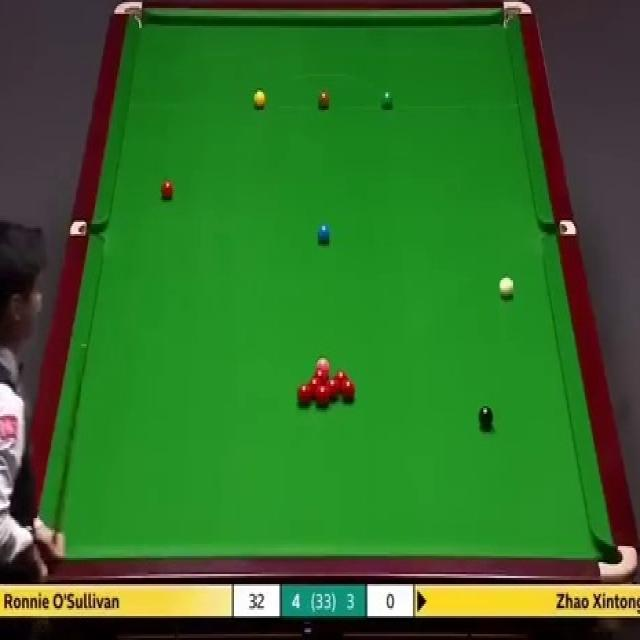pocket: (596, 542, 637, 583), (109, 0, 145, 34), (499, 0, 530, 32), (539, 218, 576, 238), (67, 220, 105, 235)
